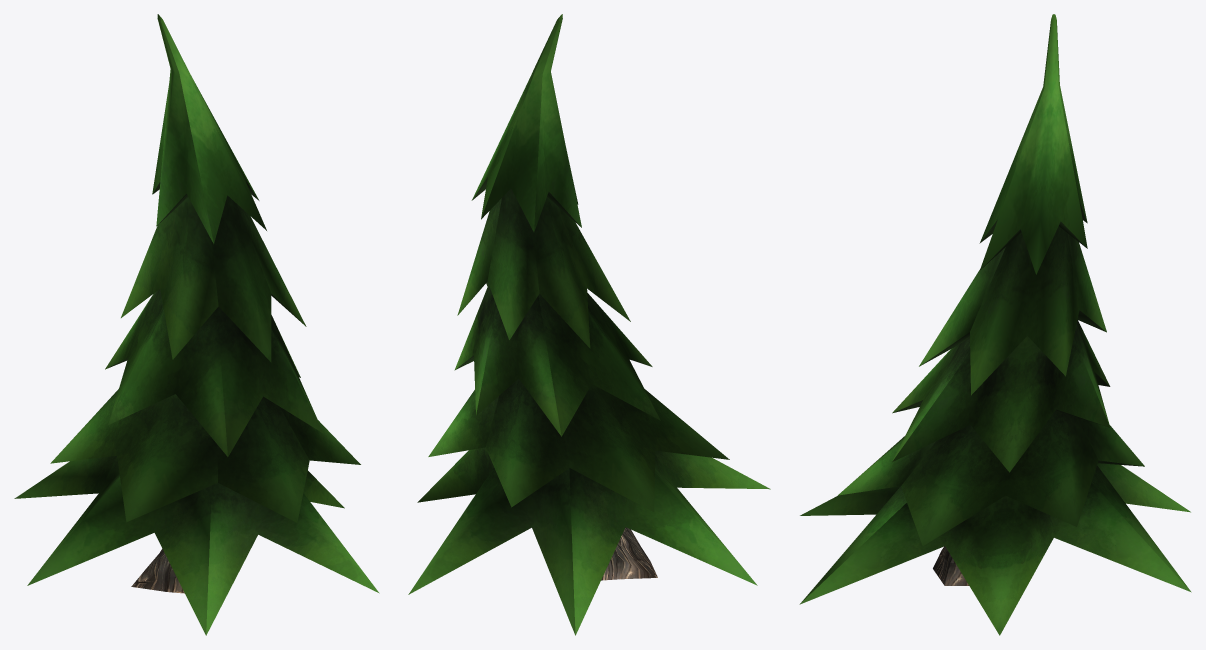
File: pinetree_02.FBX
3 renders of one model, left to right at view 1: azimuth 30°, elevation 25°; view 2: azimuth 150°, elevation 25°; view 3: azimuth 270°, elevation 25°, orthographic. The views are drawn at different scales.
Visible parts, largest first — view 1: Pinetree_02; view 2: Pinetree_02; view 3: Pinetree_02.
Boxes of the visible parts, x1=… form: Pinetree_02: x1=14, y1=14, x2=379, y2=635; Pinetree_02: x1=408, y1=14, x2=770, y2=635; Pinetree_02: x1=799, y1=14, x2=1191, y2=635.
Size of the model in its own units: 337 by 541 by 343.
